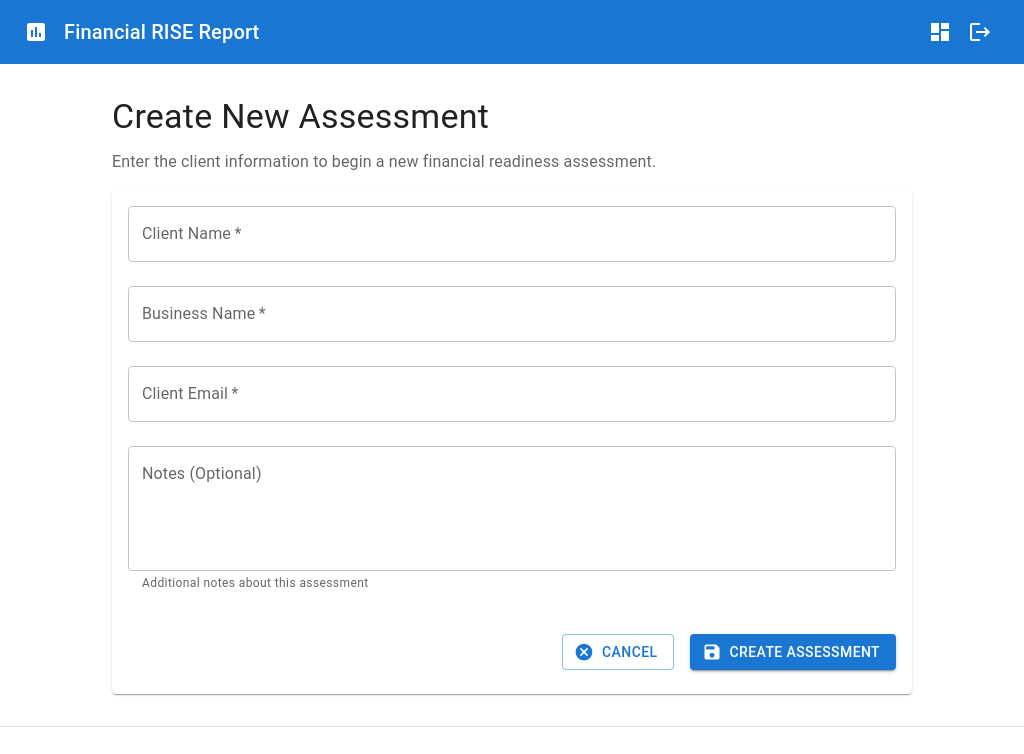
Test: CreateAssessment › should show validation error for empty client name
The width and height of the screenshot is (1024, 754).
Click the field labelled "Client Name *". click: (512, 234)
box: [128,206,896,262]
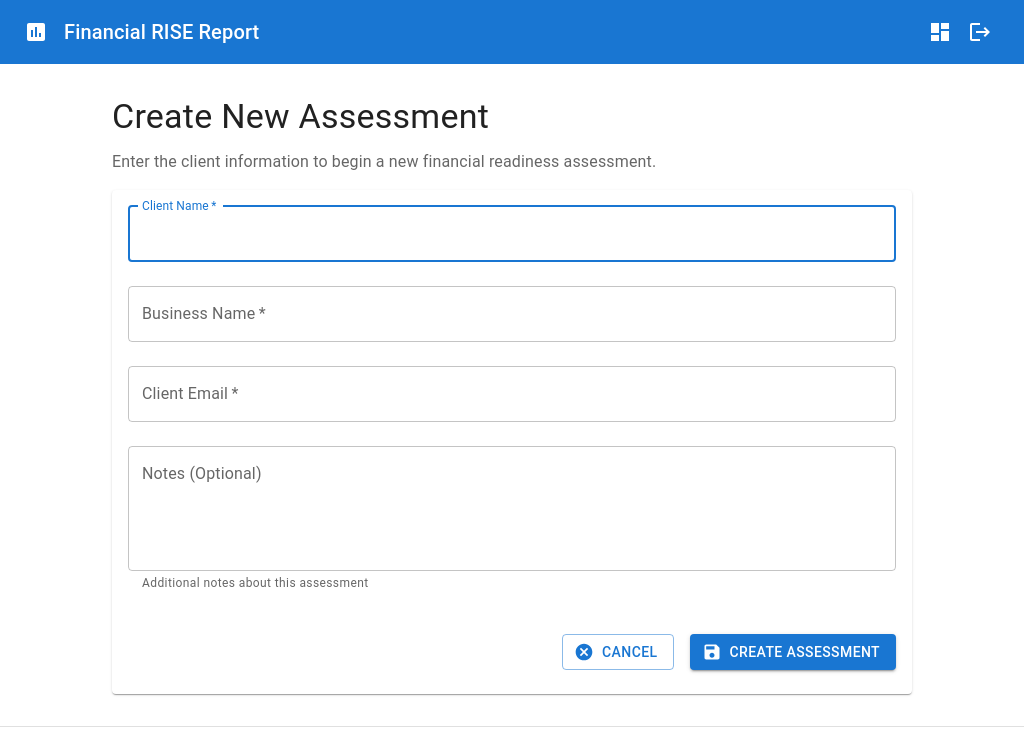
Press Tab
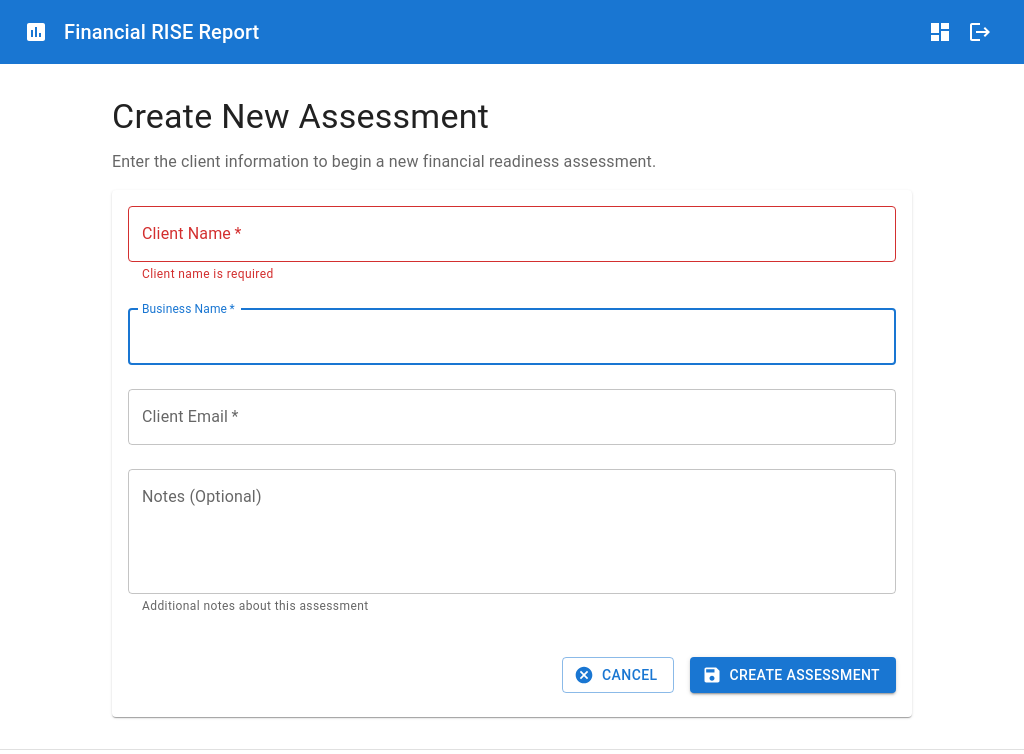
Result: the text "Client name is required" is shown at [142,267,274,281]
